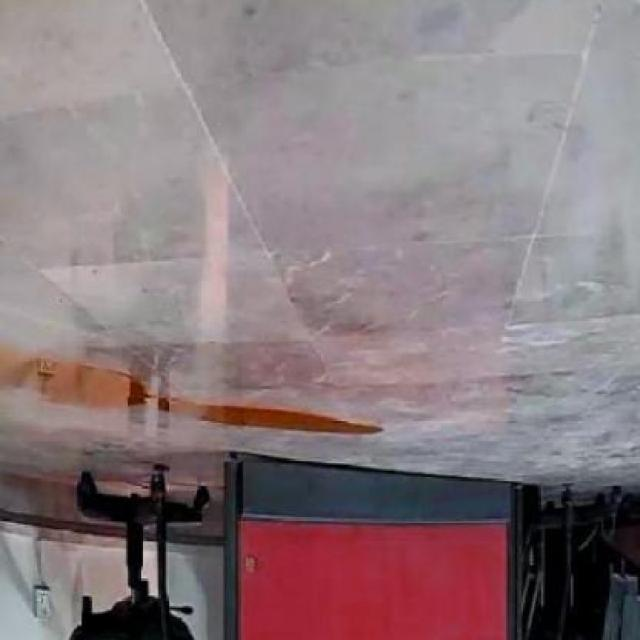spillage: (166, 398, 382, 434), (0, 354, 148, 406)
